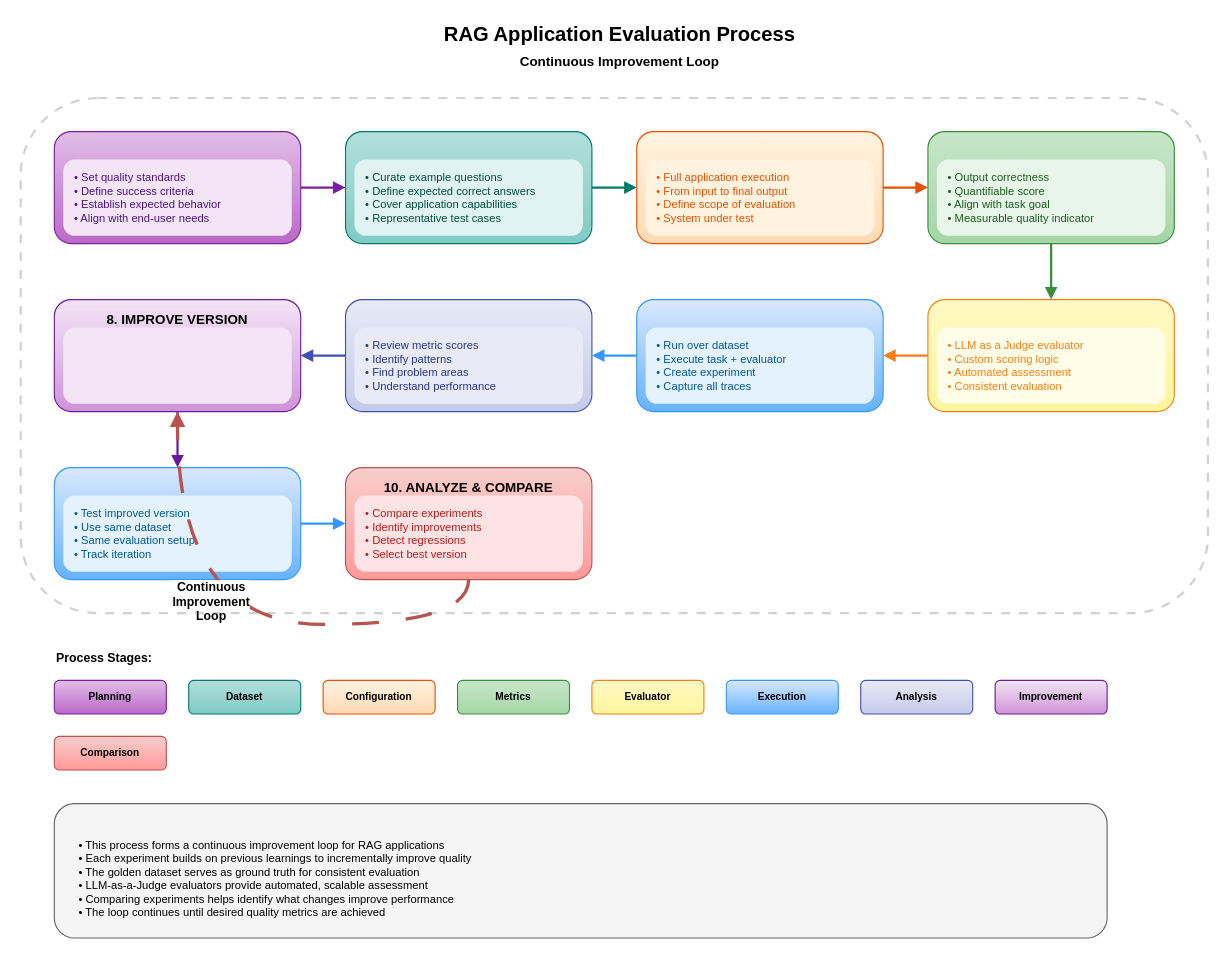
This 1228x958 diagram has some shape labels left out. Each missing label, with the box of its shape:
1. DEFINE WHAT GOOD IS: (53, 130, 301, 244)
2. DEFINE GOLDEN DATASET: (344, 130, 592, 244)
3. DEFINE TASK: (636, 130, 883, 244)
4. DEFINE METRIC: (927, 130, 1174, 244)
5. DEFINE EVALUATOR: (927, 298, 1174, 412)
6. TRIGGER EVALUATIONS: (636, 298, 883, 412)
7. ANALYZE RESULTS: (344, 298, 592, 412)
9. RUN ANOTHER EXPERIMENT: (53, 466, 301, 580)
Key Points:: (53, 802, 1107, 938)
• Change system prompt • Switch model • Adjust parameters • Refine architecture: (63, 327, 291, 403)
